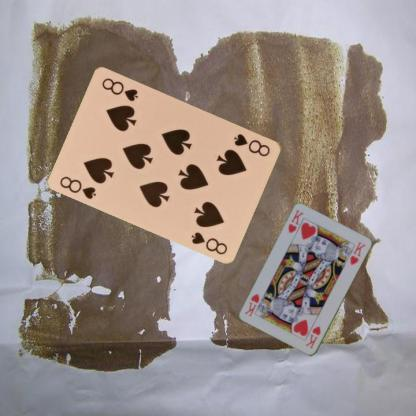8s: (232, 130, 272, 158), (57, 174, 98, 200)
Kh: (285, 208, 305, 235), (303, 324, 322, 350)
